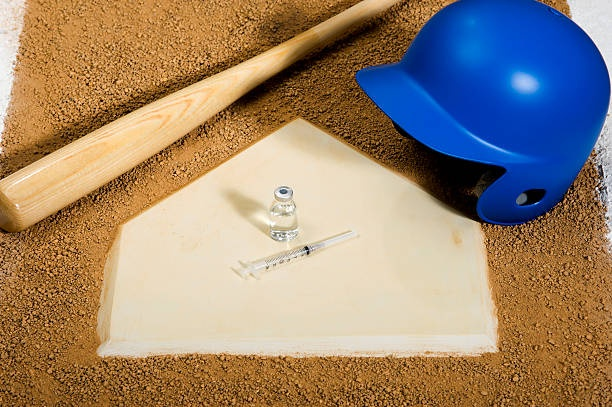bita: (11, 1, 395, 237)
